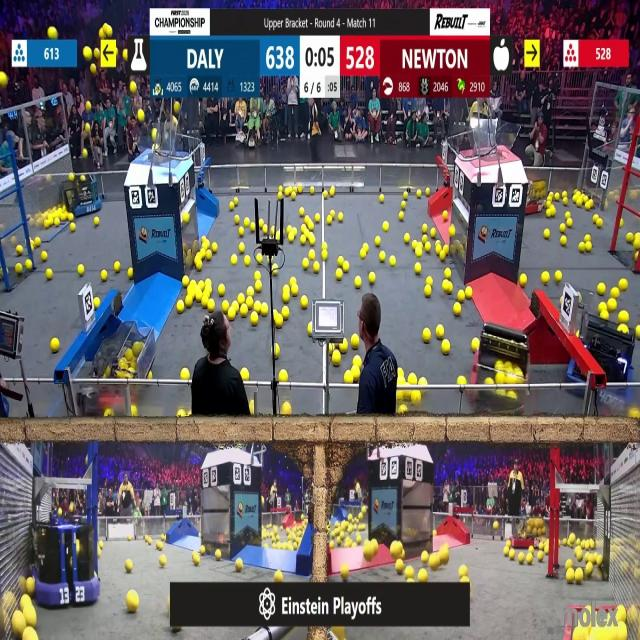ball_airborne: (0, 72, 7, 88), (82, 46, 90, 59), (48, 28, 56, 40), (138, 110, 145, 122), (131, 80, 137, 92), (91, 64, 98, 74), (85, 100, 91, 110), (174, 103, 180, 113), (68, 503, 74, 512), (82, 148, 87, 158), (151, 130, 156, 140), (84, 122, 90, 130), (173, 116, 178, 125), (59, 510, 64, 518), (152, 143, 156, 152)
ball_ground: (128, 592, 140, 613), (27, 612, 37, 629), (391, 540, 401, 556), (27, 579, 36, 595), (25, 628, 37, 640), (441, 548, 450, 563), (428, 556, 438, 569), (419, 568, 428, 582), (282, 404, 291, 418), (412, 391, 421, 405), (620, 312, 630, 324), (443, 340, 451, 354), (395, 560, 403, 574), (351, 336, 359, 350), (50, 339, 58, 353), (345, 372, 354, 384), (444, 280, 453, 292), (250, 313, 258, 326), (280, 368, 288, 381), (438, 325, 446, 338), (334, 352, 342, 365), (586, 563, 594, 576), (342, 564, 349, 578), (196, 290, 203, 304), (369, 539, 376, 553), (177, 302, 185, 314), (242, 367, 250, 379), (181, 367, 189, 379), (275, 315, 283, 327), (608, 300, 616, 312), (282, 308, 290, 320), (610, 286, 618, 298), (276, 569, 284, 581), (126, 560, 134, 572), (574, 570, 582, 582), (341, 342, 349, 354), (423, 328, 430, 341), (237, 559, 244, 572), (471, 339, 478, 352), (454, 304, 461, 317), (302, 295, 309, 308), (192, 553, 199, 566), (353, 367, 360, 380), (571, 630, 580, 640), (406, 567, 414, 578), (620, 280, 628, 291), (410, 374, 418, 385), (520, 275, 527, 287), (541, 273, 548, 285), (465, 287, 472, 299), (244, 254, 251, 266), (283, 290, 290, 302), (262, 305, 269, 317), (241, 306, 248, 318), (566, 570, 573, 582), (575, 549, 582, 561), (353, 356, 361, 366), (459, 566, 467, 576), (252, 303, 260, 313), (246, 296, 254, 306), (218, 284, 225, 295), (45, 270, 52, 281), (598, 283, 605, 294), (77, 266, 84, 277), (208, 301, 215, 312), (458, 290, 465, 301), (254, 281, 261, 292), (445, 269, 452, 280), (185, 295, 192, 306), (368, 273, 374, 285), (458, 377, 466, 386), (222, 302, 228, 314), (102, 270, 108, 282), (195, 260, 201, 272), (422, 552, 428, 564), (227, 310, 234, 320), (419, 377, 426, 387), (578, 242, 585, 252), (627, 234, 634, 244), (389, 256, 396, 266), (132, 408, 139, 418), (545, 208, 552, 218), (526, 554, 533, 564), (601, 311, 608, 321), (203, 287, 210, 297), (622, 324, 629, 334), (397, 377, 404, 387), (249, 404, 254, 418), (355, 277, 361, 288), (182, 276, 188, 287), (586, 242, 592, 253), (161, 556, 167, 567), (239, 243, 245, 254), (182, 212, 188, 223), (634, 238, 640, 249), (519, 553, 525, 564), (507, 549, 513, 560), (276, 345, 281, 358), (177, 411, 185, 419), (247, 287, 254, 296), (205, 251, 212, 260), (155, 540, 162, 549), (308, 221, 315, 230), (586, 201, 593, 210), (233, 303, 240, 312), (270, 225, 277, 234), (556, 272, 562, 282), (114, 264, 120, 274), (425, 286, 431, 296), (416, 265, 422, 275), (215, 551, 221, 561), (309, 323, 314, 335), (291, 285, 297, 295), (232, 254, 238, 264), (314, 264, 320, 274), (41, 251, 47, 261), (27, 262, 33, 272), (212, 242, 218, 252), (315, 213, 321, 223), (403, 234, 409, 244), (376, 237, 382, 247), (15, 266, 21, 276), (304, 261, 310, 271), (94, 297, 100, 307), (450, 225, 456, 235), (338, 256, 344, 266), (16, 245, 22, 255), (310, 250, 316, 260), (424, 243, 430, 253), (239, 293, 245, 303), (310, 236, 316, 246), (250, 222, 256, 232), (441, 251, 447, 261), (435, 245, 441, 255), (596, 218, 602, 228), (356, 534, 362, 544), (189, 279, 195, 289), (105, 411, 112, 419), (299, 224, 306, 232), (492, 522, 499, 530), (129, 269, 134, 280), (381, 251, 386, 262), (444, 211, 450, 220), (383, 221, 389, 230), (35, 238, 41, 247), (560, 223, 566, 232), (566, 218, 572, 227), (254, 272, 260, 281), (299, 237, 305, 246), (416, 248, 422, 257), (538, 553, 544, 562), (244, 217, 250, 226), (199, 280, 205, 289), (422, 223, 428, 232), (258, 219, 264, 228), (344, 264, 349, 274), (561, 237, 566, 247), (338, 270, 343, 280), (543, 230, 548, 240), (256, 254, 261, 264), (288, 234, 293, 244), (227, 204, 234, 211), (426, 277, 432, 285), (298, 208, 304, 216), (95, 217, 101, 225), (70, 223, 76, 231), (278, 194, 284, 202), (290, 191, 296, 199), (566, 560, 572, 568), (68, 213, 74, 221), (599, 304, 605, 312), (276, 232, 282, 240), (460, 576, 468, 582), (290, 277, 296, 285), (555, 191, 561, 199), (397, 367, 403, 375), (562, 190, 568, 198), (55, 218, 61, 226), (234, 198, 240, 206), (361, 504, 367, 512), (310, 186, 316, 194), (201, 544, 206, 553), (236, 215, 241, 224), (322, 251, 327, 260), (430, 230, 435, 239), (413, 240, 418, 249), (360, 250, 365, 259), (146, 535, 151, 544), (239, 226, 244, 235), (264, 224, 269, 233), (329, 187, 334, 196), (576, 199, 581, 208), (636, 325, 640, 336), (286, 225, 292, 232), (205, 280, 212, 286), (360, 524, 366, 531), (398, 212, 403, 220), (402, 190, 407, 198), (326, 216, 331, 224), (362, 243, 367, 251), (400, 202, 405, 210), (323, 190, 328, 198), (328, 344, 332, 354), (291, 226, 296, 234), (305, 216, 310, 224), (381, 193, 385, 202), (503, 546, 507, 555), (586, 235, 591, 242), (417, 190, 422, 197), (563, 199, 568, 206), (423, 236, 428, 243), (505, 539, 510, 546), (99, 540, 104, 547), (341, 533, 346, 540), (329, 210, 334, 217), (273, 270, 278, 277), (340, 213, 344, 221), (322, 242, 326, 250), (621, 219, 625, 227), (148, 370, 152, 378), (544, 544, 548, 552), (162, 534, 167, 540), (273, 265, 278, 271), (426, 188, 430, 195), (566, 211, 570, 218), (98, 551, 102, 558), (635, 252, 639, 259), (129, 534, 133, 540), (432, 530, 436, 536), (273, 542, 277, 548)
goal: (466, 122, 520, 160), (126, 129, 187, 160)
robot_blue: (28, 515, 102, 608), (584, 316, 634, 378), (66, 178, 101, 218)
robot_red: (470, 320, 529, 435), (96, 332, 155, 413), (513, 514, 545, 548), (524, 178, 548, 215)
